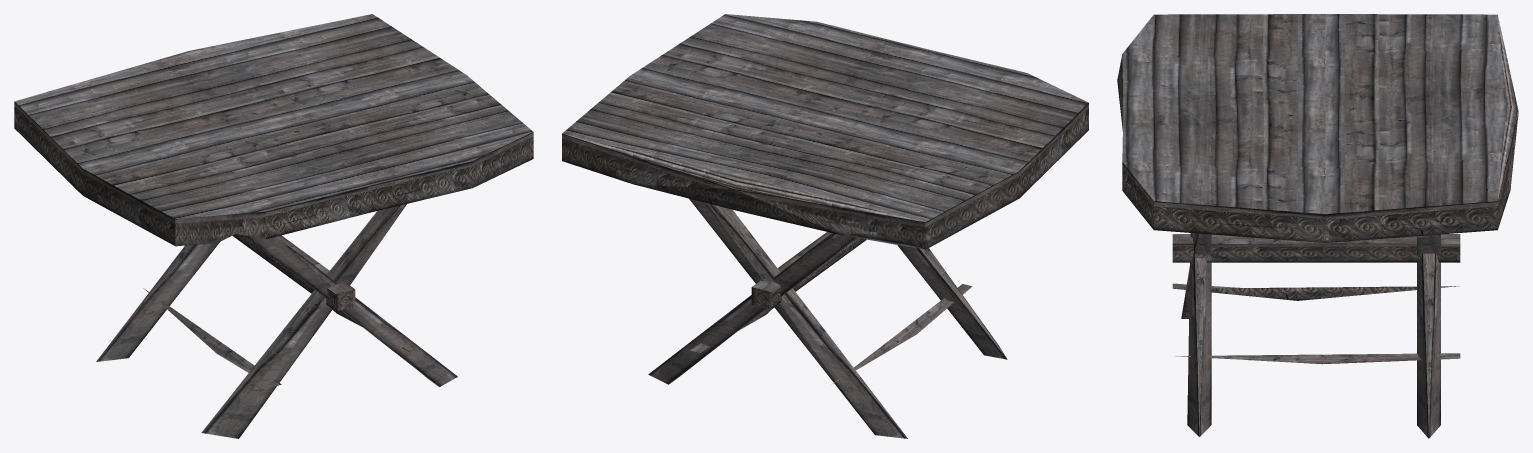
File: tavern_table2_LOD.dae
3 views of the same model, side by side, from view 1: azimuth 30°, elevation 25°; view 2: azimuth 150°, elevation 25°; view 3: azimuth 270°, elevation 25° (orthographic). The views are drawn at different scales.
Parts seen in each view (by area): view 1: Default_Layer; view 2: Default_Layer; view 3: Default_Layer.
Part boxes in pixels (box(x1,y1,x2,y2)): Default_Layer: box(14, 14, 533, 438); Default_Layer: box(562, 14, 1088, 438); Default_Layer: box(1117, 14, 1518, 438).
Size of the model in its own units: 5.97 by 3.76 by 5.07.
